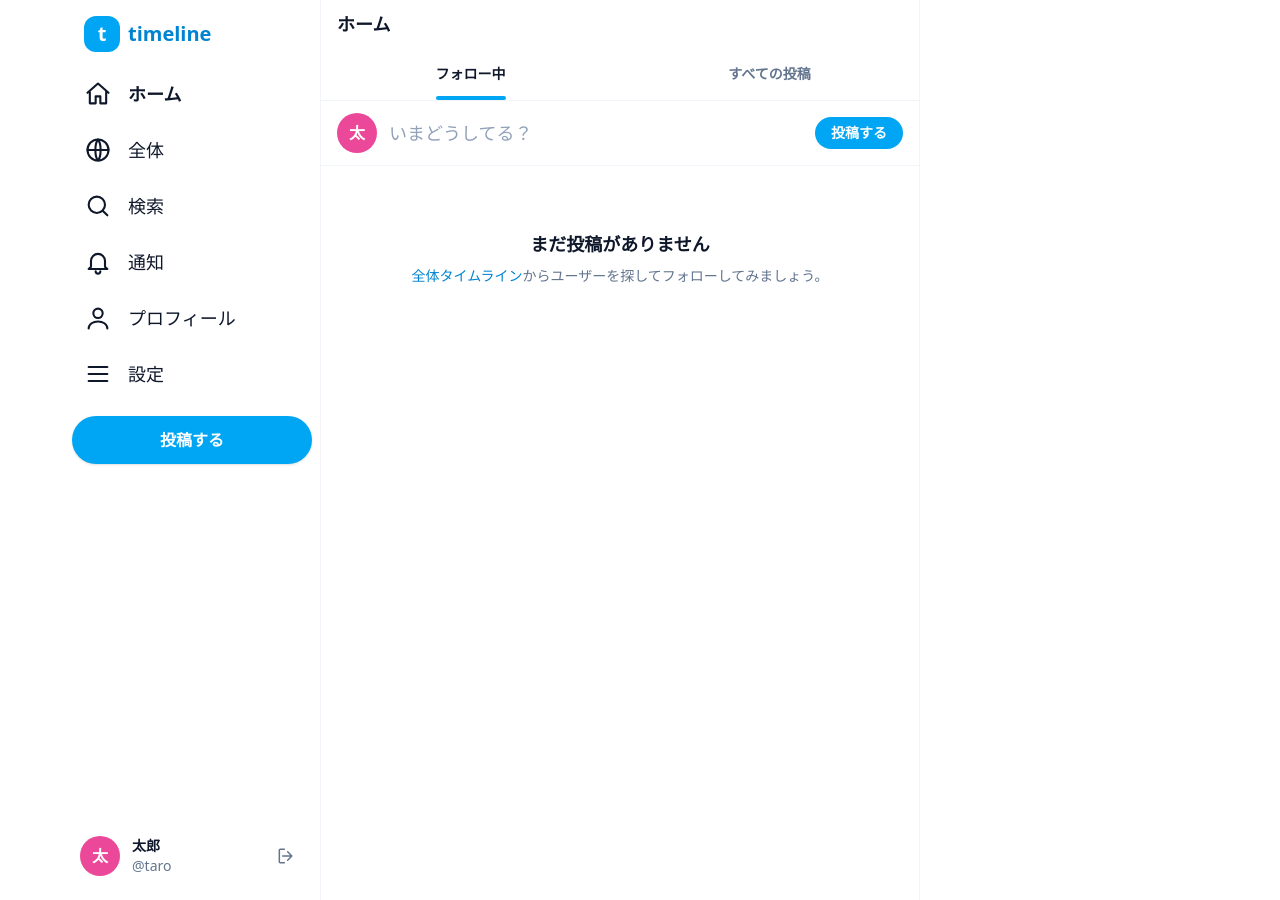
Test case: ホームタイムラインと投稿 › 本文を入力して投稿すると、タイムラインを取り直す
Click the button "投稿する".
click(192, 440)  # box left=72, top=416, right=312, bottom=464
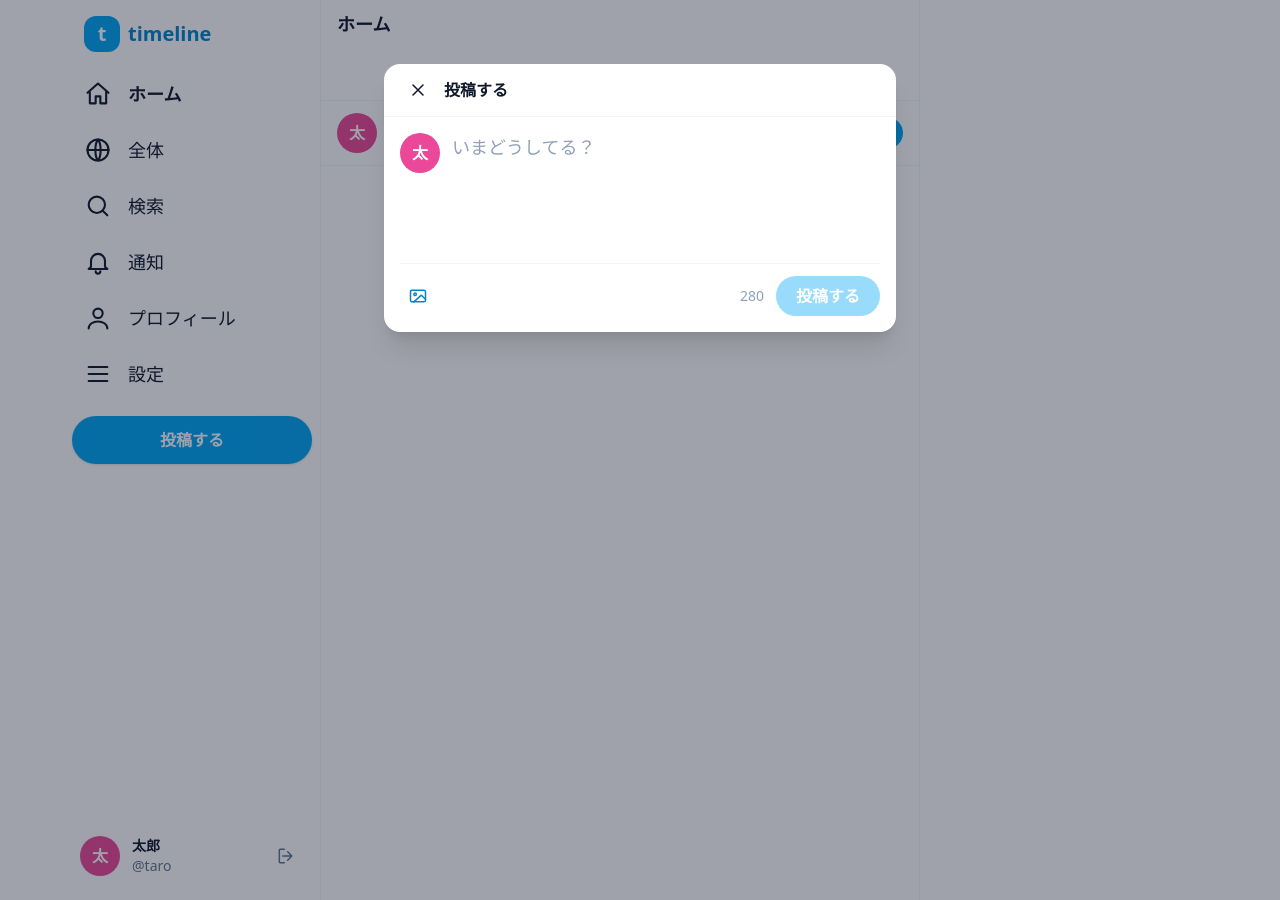
Expected: the button "投稿する" is disabled, left=776, top=276, right=880, bottom=316
Type "こんにちは" into the text box named "本文".
click(666, 189); type("こんにちは")  # box left=452, top=133, right=880, bottom=245
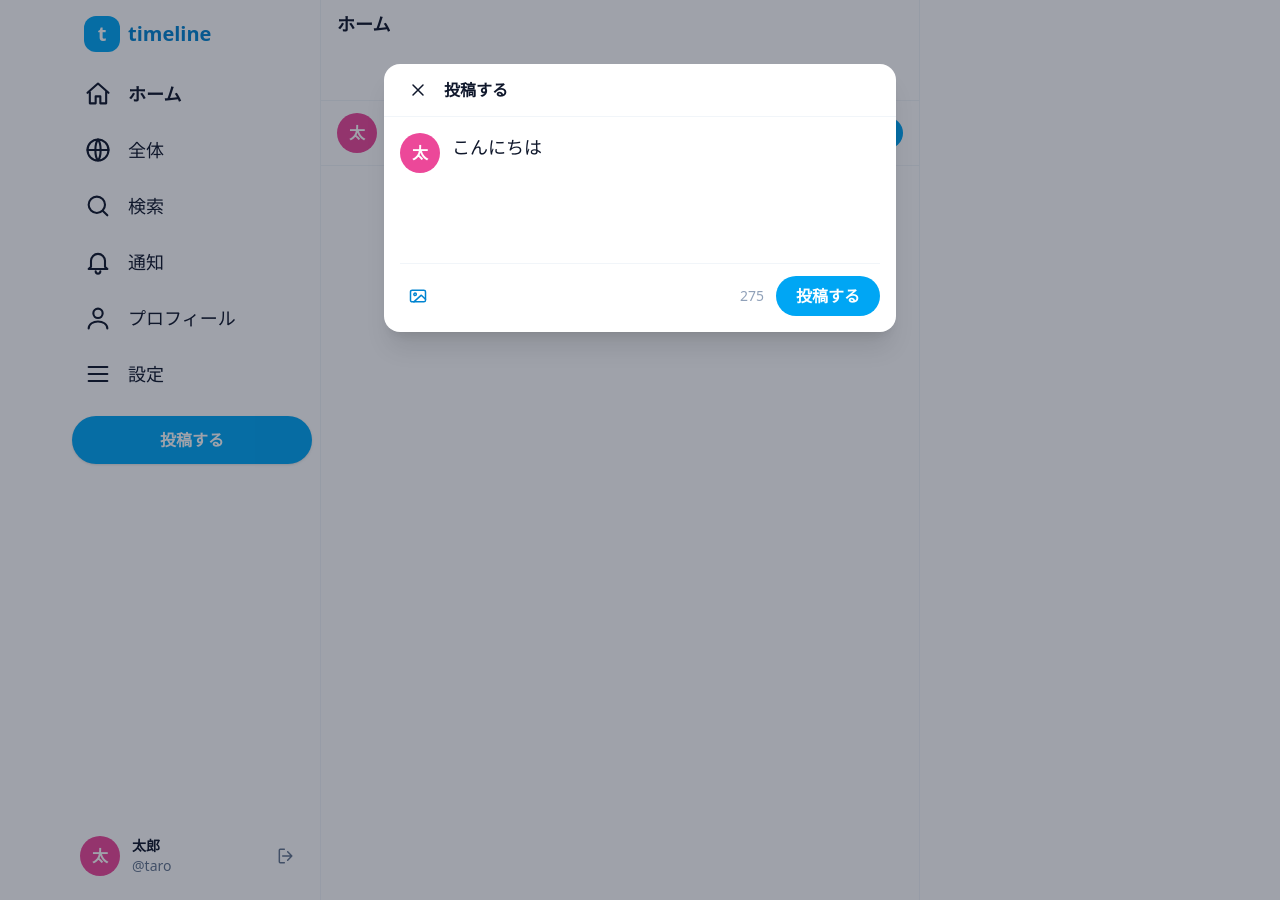
Expected: the text named "残り文字数" reads "275", left=740, top=286, right=764, bottom=305
Click the button "投稿する".
click(828, 296)  # box left=776, top=276, right=880, bottom=316
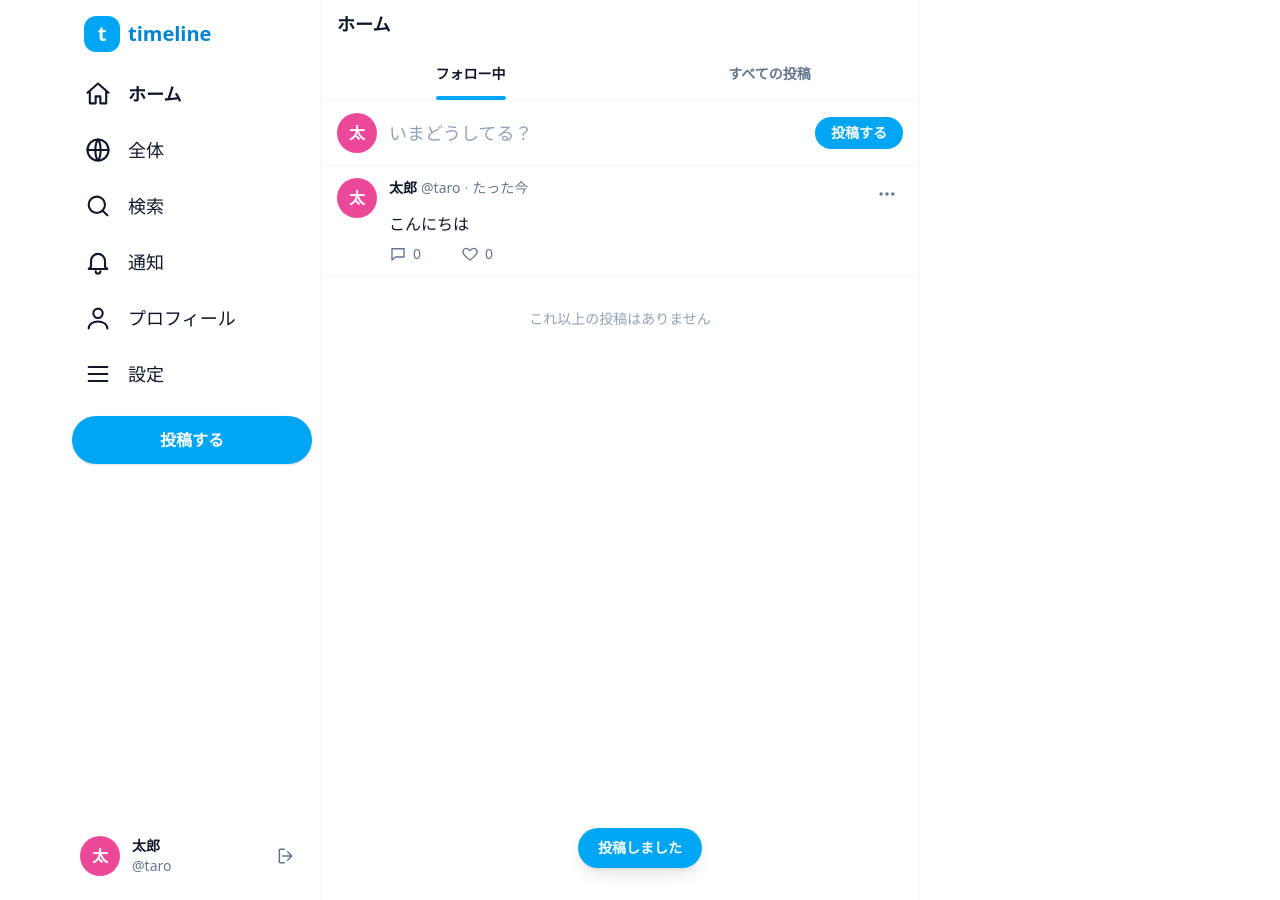
Expected: the text "投稿しました" is shown, left=578, top=828, right=702, bottom=868
Expected: the dialog is gone
Expected: the text "こんにちは" is shown, left=389, top=213, right=469, bottom=235
